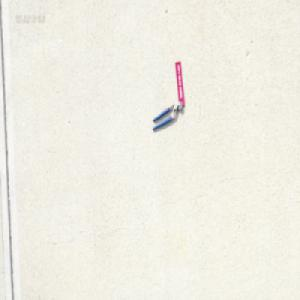Label: (173, 62, 184, 108)
Pliers: (150, 102, 181, 133)
